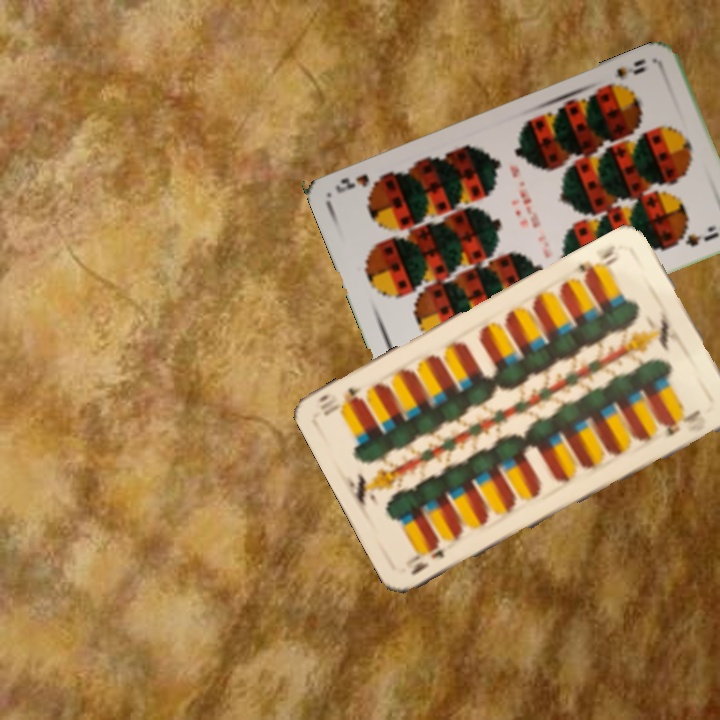E10: (574, 241, 622, 283), (405, 542, 449, 578)
S9: (601, 54, 649, 90)
